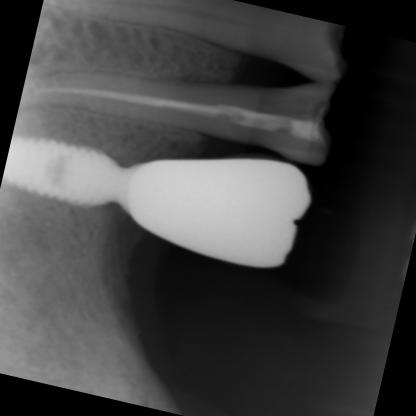Bicon: (0, 124, 119, 219)
